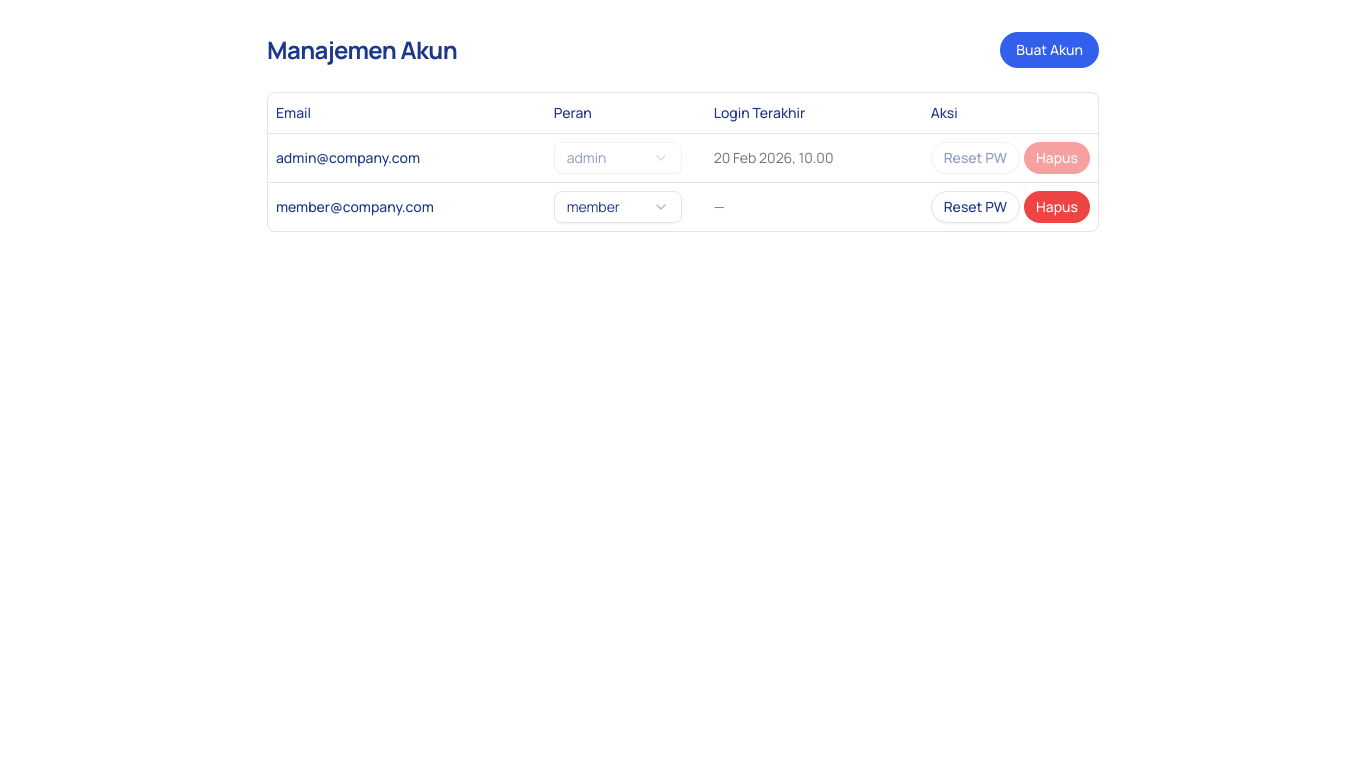
it: AccountsPage › opens reset password dialog
Click the button "Reset PW" in the row of "member@company.com": (975, 206) left=931, top=190, right=1020, bottom=222
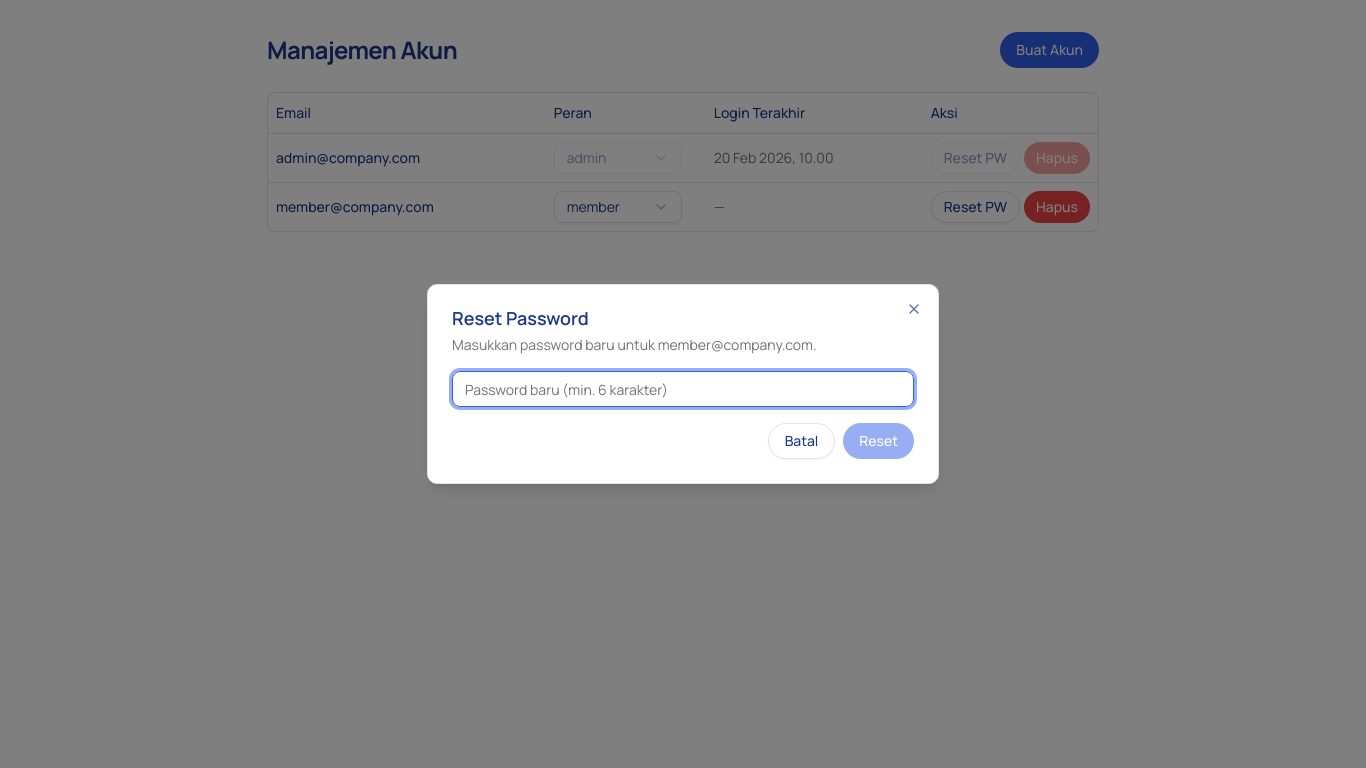
expect the heading "Reset Password" is shown: met, box left=452, top=306, right=589, bottom=330
expect the text "Masukkan password baru untuk member@company.com." is shown: met, box left=452, top=335, right=816, bottom=354
